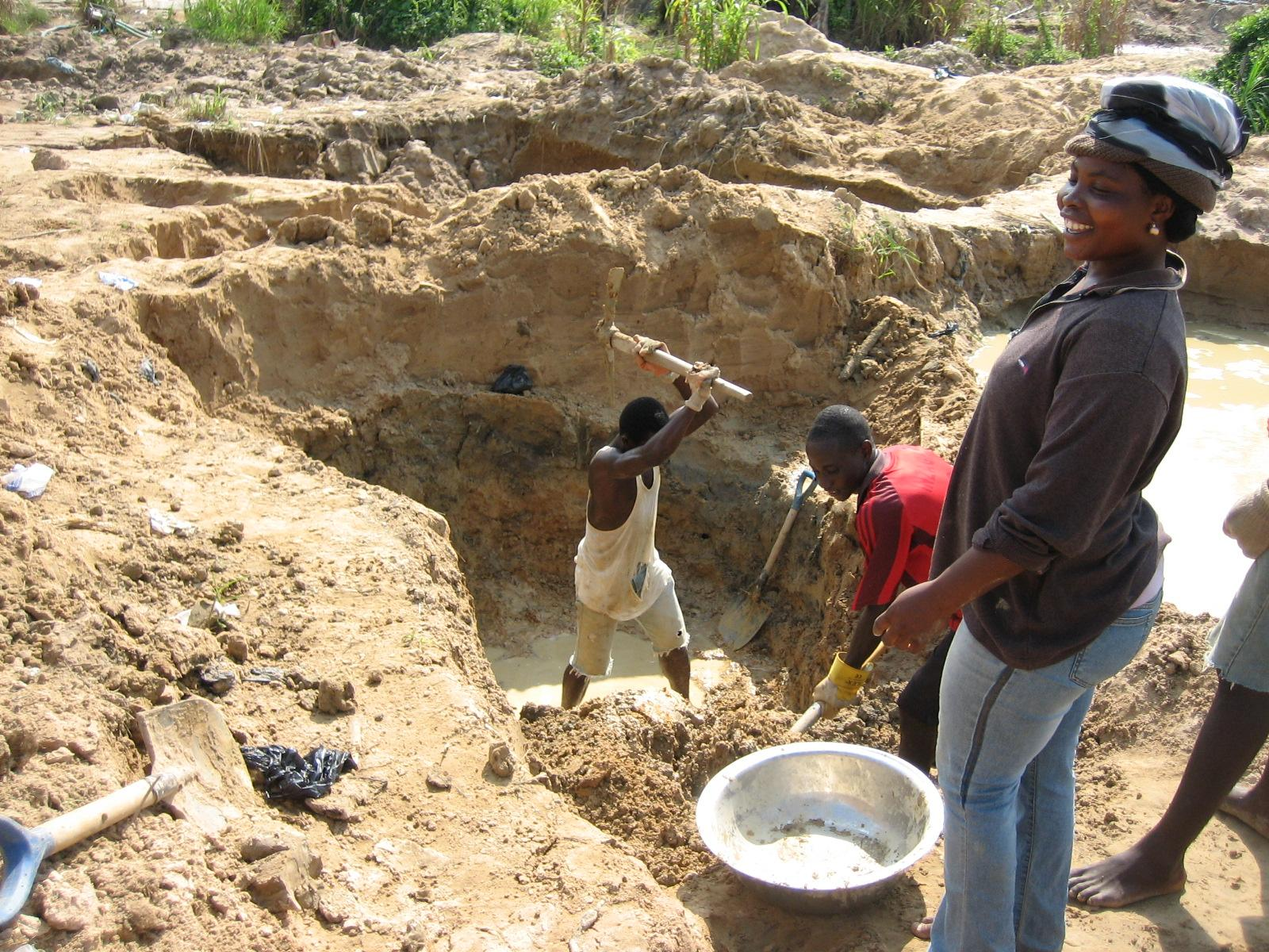MiningTool: (1, 683, 275, 943), (692, 720, 949, 928), (585, 260, 761, 409), (715, 458, 815, 653), (769, 634, 903, 747)
Person: (870, 79, 1246, 952), (1070, 325, 1265, 920), (799, 401, 1000, 771), (554, 332, 713, 715)
